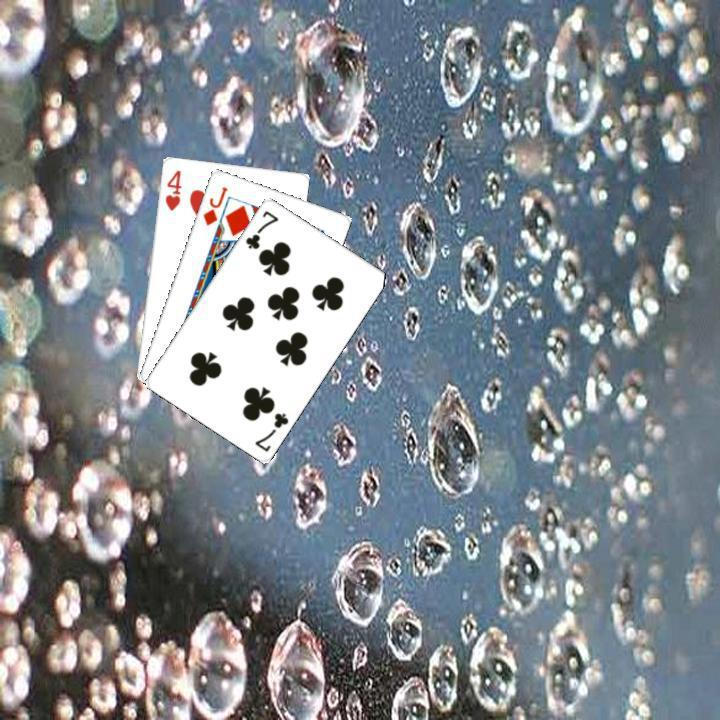4: (160, 165, 183, 212)
7: (250, 408, 291, 453), (241, 206, 280, 251)
J: (198, 182, 230, 227)
